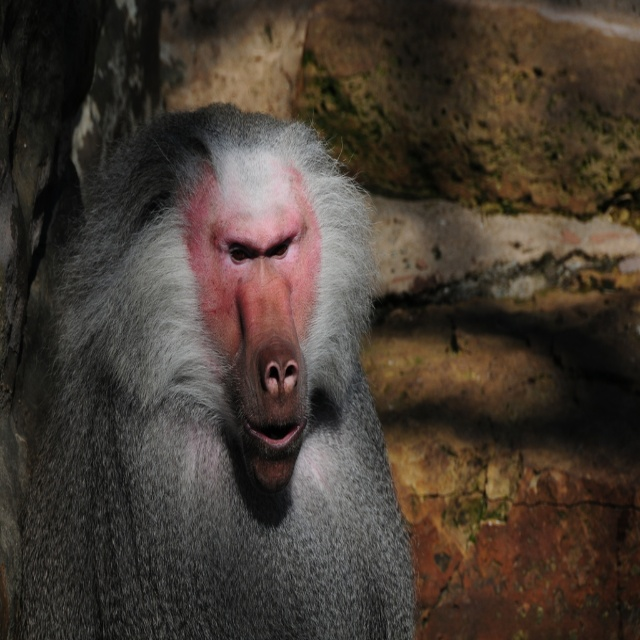Monkey: (20, 101, 416, 639)
